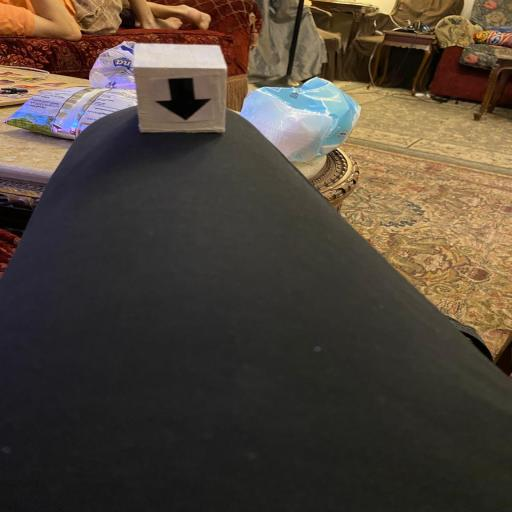Down: (133, 44, 229, 134)
